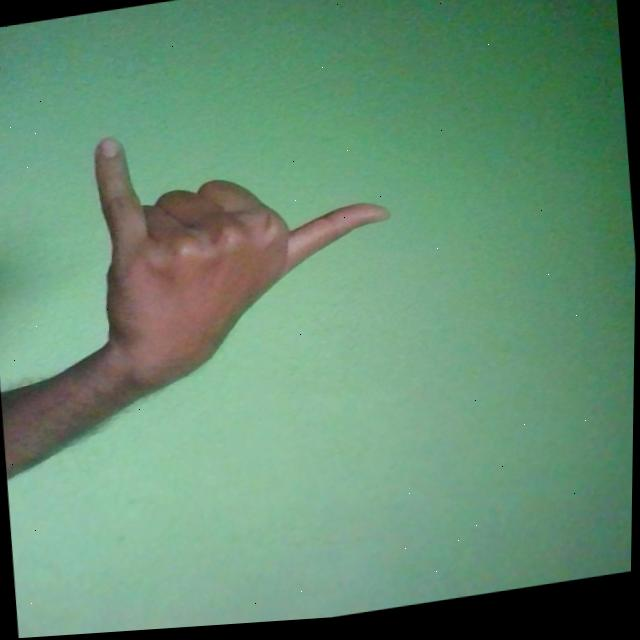Call Me: (87, 99, 405, 403)
